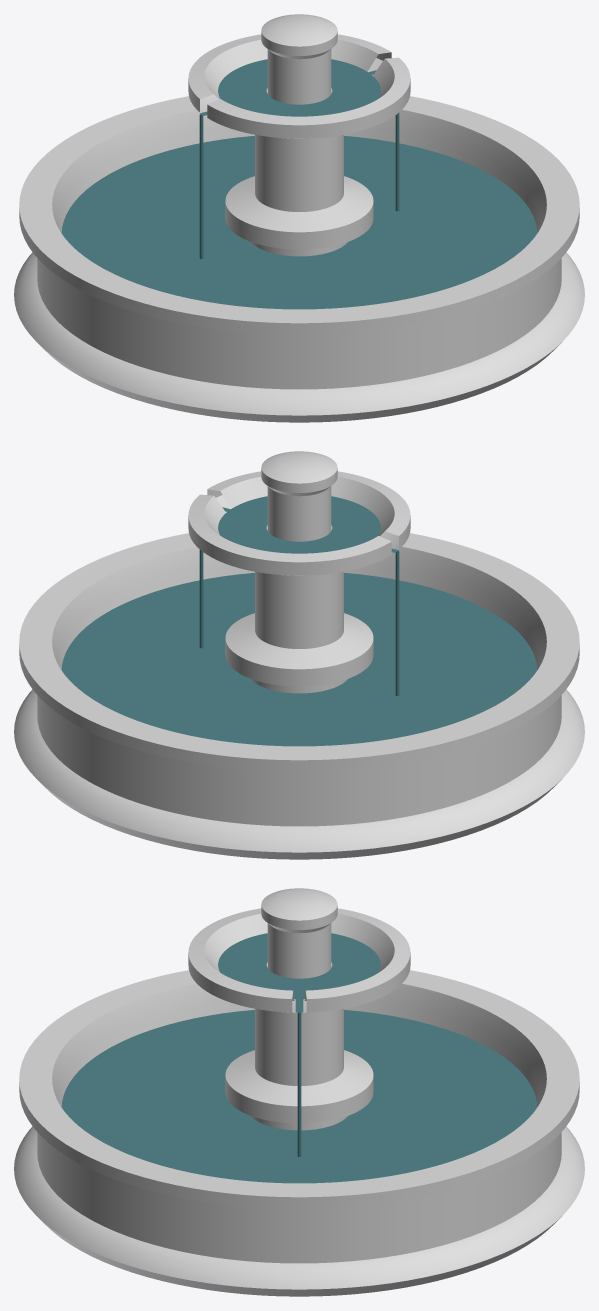
File: MarketFountain.glb
The picture shows the model from 3 angles, top to bottom: view 1: azimuth 30°, elevation 25°; view 2: azimuth 150°, elevation 25°; view 3: azimuth 270°, elevation 25°; orthographic projection.
Visible parts, largest first — view 1: FountainStone, LowerWater, UpperWater, WaterStream; view 2: FountainStone, LowerWater, UpperWater, WaterStream; view 3: FountainStone, LowerWater, UpperWater, WaterStream.001.
Part boxes in pixels (<box>): FountainStone: <box>14,14,584,422</box>; LowerWater: <box>61,136,537,309</box>; UpperWater: <box>218,59,380,116</box>; WaterStream: <box>199,114,203,259</box>; FountainStone: <box>14,451,584,859</box>; LowerWater: <box>61,573,537,746</box>; UpperWater: <box>218,496,380,553</box>; WaterStream: <box>395,551,399,696</box>; FountainStone: <box>14,888,584,1296</box>; LowerWater: <box>61,1010,537,1183</box>; UpperWater: <box>218,933,380,999</box>; WaterStream.001: <box>297,1012,301,1156</box>.
Size of the model in its own units: 5.4 by 2.94 by 5.4.
